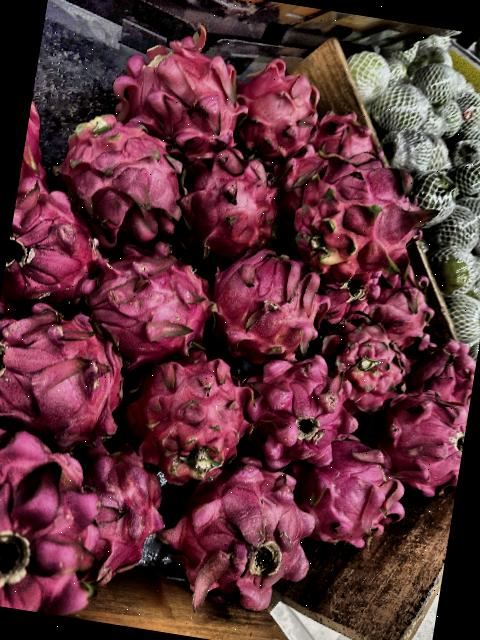buah-naga-matang: (162, 448, 326, 614), (43, 103, 202, 243), (0, 419, 109, 619), (0, 300, 138, 450), (287, 138, 428, 284), (116, 26, 260, 162), (121, 344, 256, 488), (63, 430, 180, 592), (80, 234, 222, 366), (201, 239, 331, 365), (238, 342, 365, 469), (288, 434, 415, 560), (0, 184, 107, 319), (173, 136, 292, 257), (356, 380, 470, 489), (316, 313, 412, 422), (228, 47, 320, 160), (361, 262, 441, 351), (404, 330, 480, 404), (14, 109, 54, 218), (308, 110, 375, 159)
